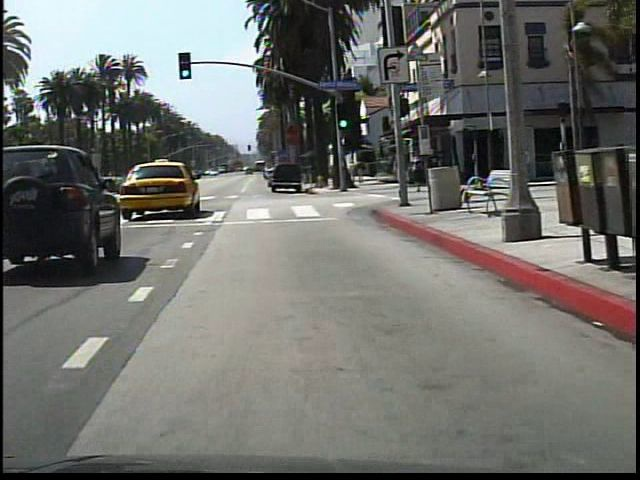person: (399, 147, 416, 196), (520, 142, 530, 183)
